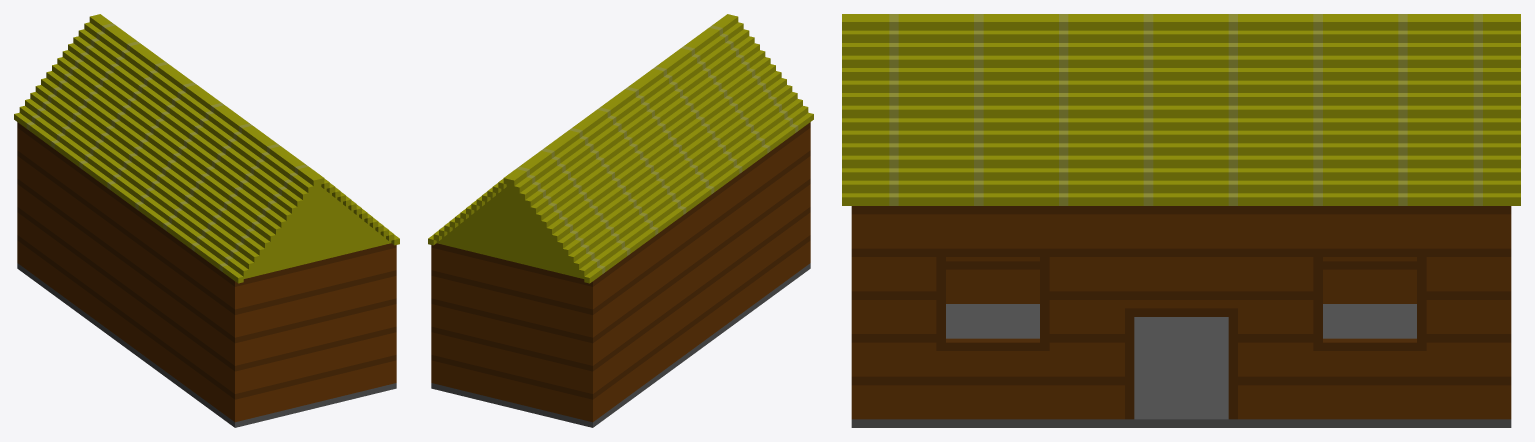
The model's file is L6Hut.obj.
3 views of the same model, side by side, from view 1: azimuth 30°, elevation 25°; view 2: azimuth 150°, elevation 25°; view 3: azimuth 270°, elevation 25° (orthographic). The views are drawn at different scales.
Size of the model in its own units: 30 by 41 by 72.
